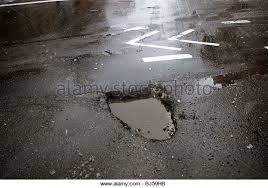pothole: (87, 83, 195, 149)
